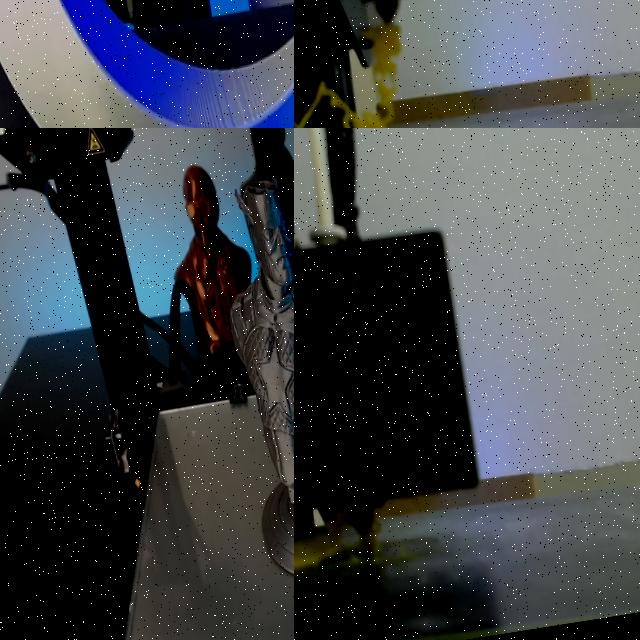spaghetti: (294, 24, 401, 128), (294, 510, 348, 568), (354, 521, 378, 558)
